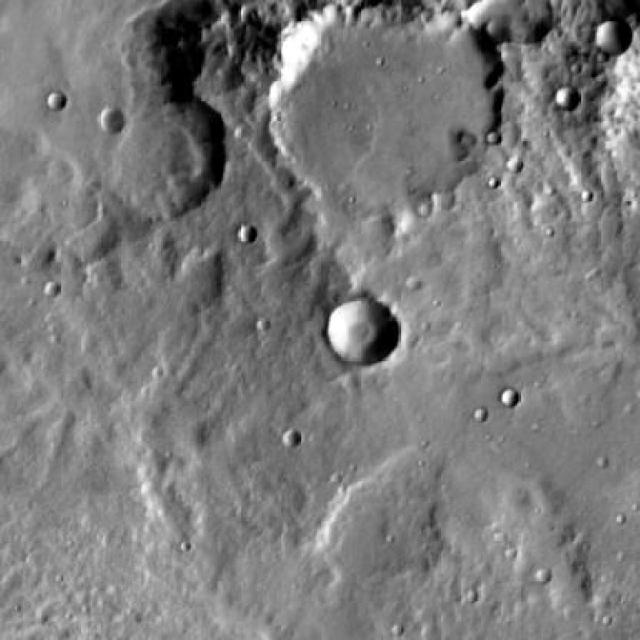crater: (264, 0, 490, 209), (88, 82, 223, 216), (327, 300, 396, 368), (593, 19, 629, 55), (100, 109, 126, 133), (558, 87, 580, 108), (46, 90, 66, 110), (498, 390, 518, 408), (283, 434, 299, 449)
